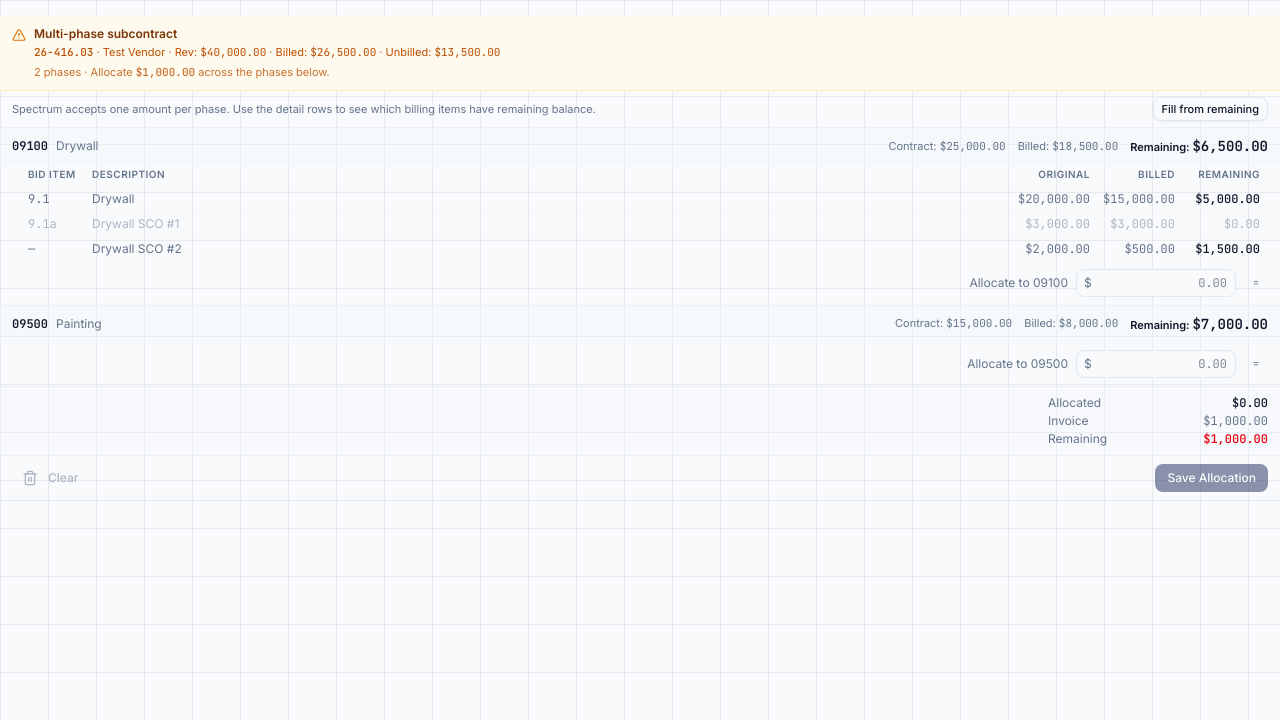
Test: MultiPhaseAllocationPanel › overage badge › shows soft overage note (no routing mention) when input exceeds phase remaining
The image size is (1280, 720).
Step 1. Type "7000.00" into the field named "Allocate to 09100" → coordinates (1156, 283), box x1=1076 y1=269 x2=1236 y2=297
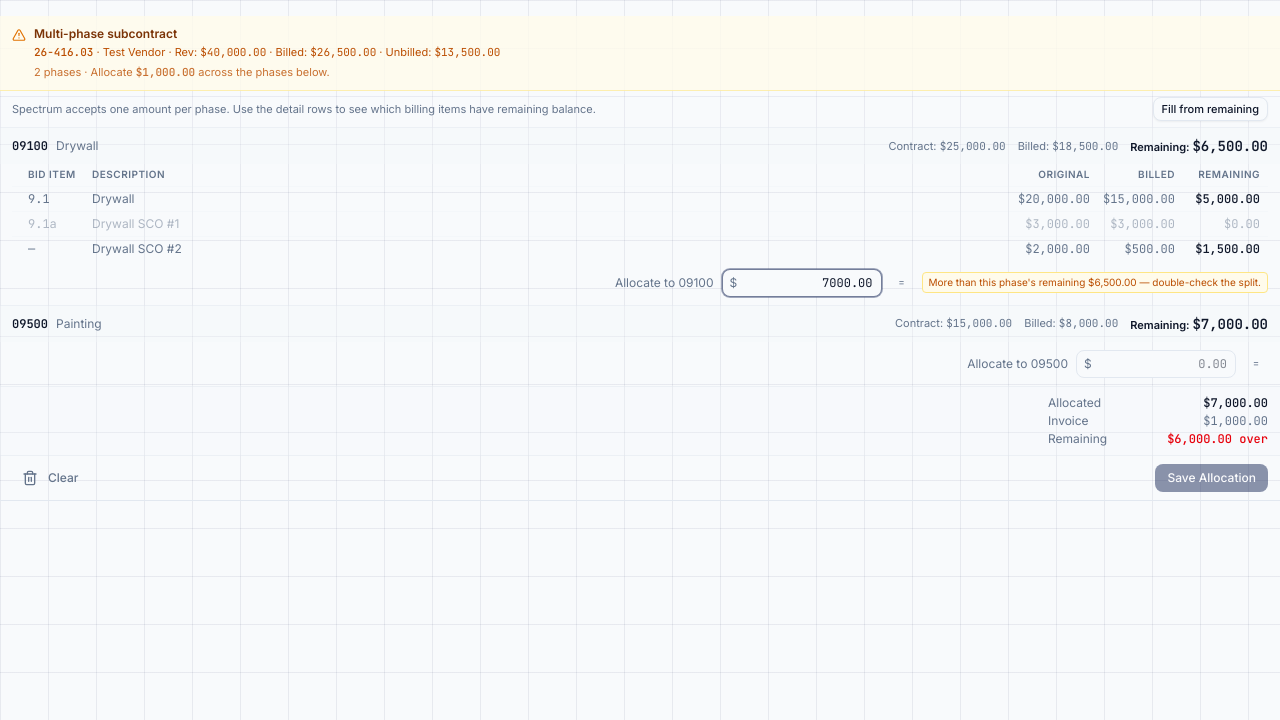
Check: the text with test id "overage-badge-09100" does not show "routing", box x1=922 y1=272 x2=1268 y2=293
Check: the text with test id "overage-badge-09100" shows "More than this phase's remaining", box x1=928 y1=276 x2=1088 y2=288
Check: the text with test id "overage-badge-09100" shows "$6,500.00", box x1=1088 y1=276 x2=1137 y2=288
